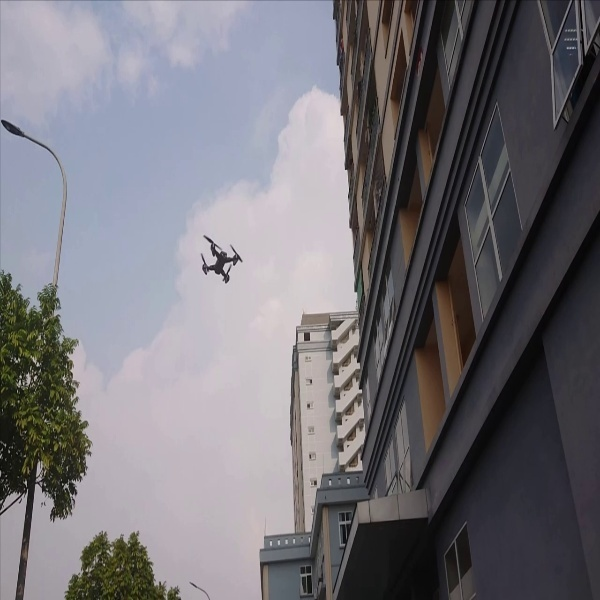drone: (186, 228, 257, 295)
